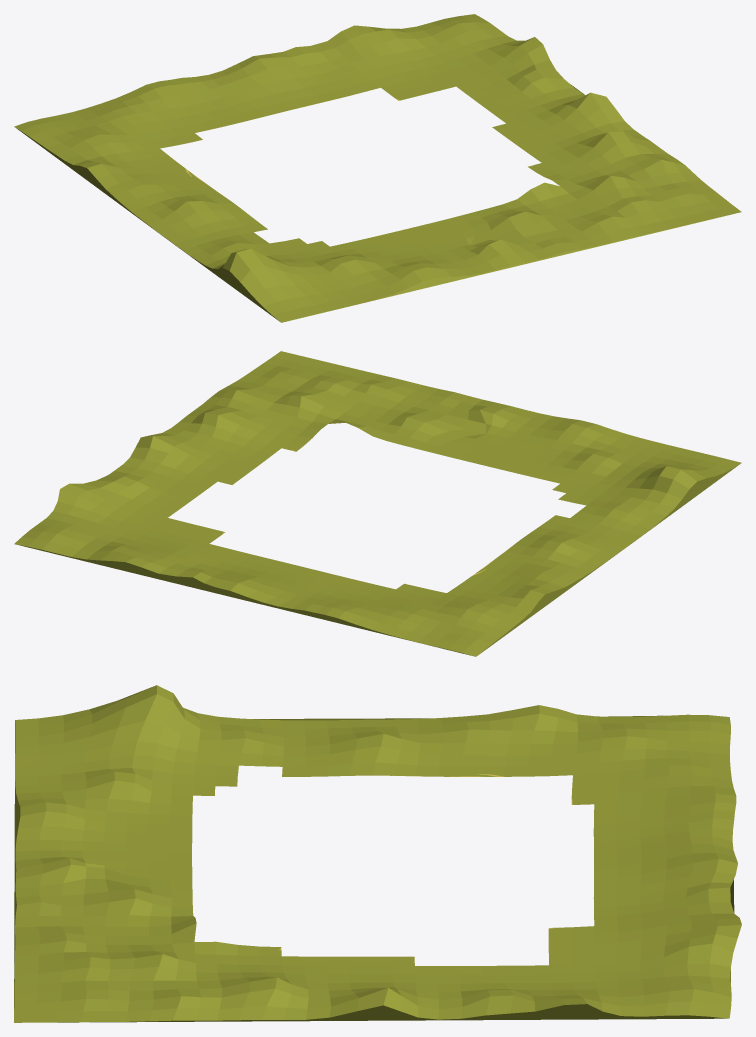
Rendered from just_grass_map1_arena.fbx.
The picture shows the model from 3 angles, top to bottom: view 1: azimuth 30°, elevation 25°; view 2: azimuth 150°, elevation 25°; view 3: azimuth 270°, elevation 25°; orthographic projection. The views are drawn at different scales.
Parts seen in each view (by area): view 1: justgrass_ground; view 2: justgrass_ground; view 3: justgrass_ground.
Part boxes in pixels (left/top/right/bottom): justgrass_ground: left=14, top=14, right=741, bottom=322; justgrass_ground: left=14, top=351, right=741, bottom=656; justgrass_ground: left=14, top=685, right=741, bottom=1022.
Size of the model in its own units: 21055 by 1370 by 21026.
Materials: 1 (1 with a texture image).
